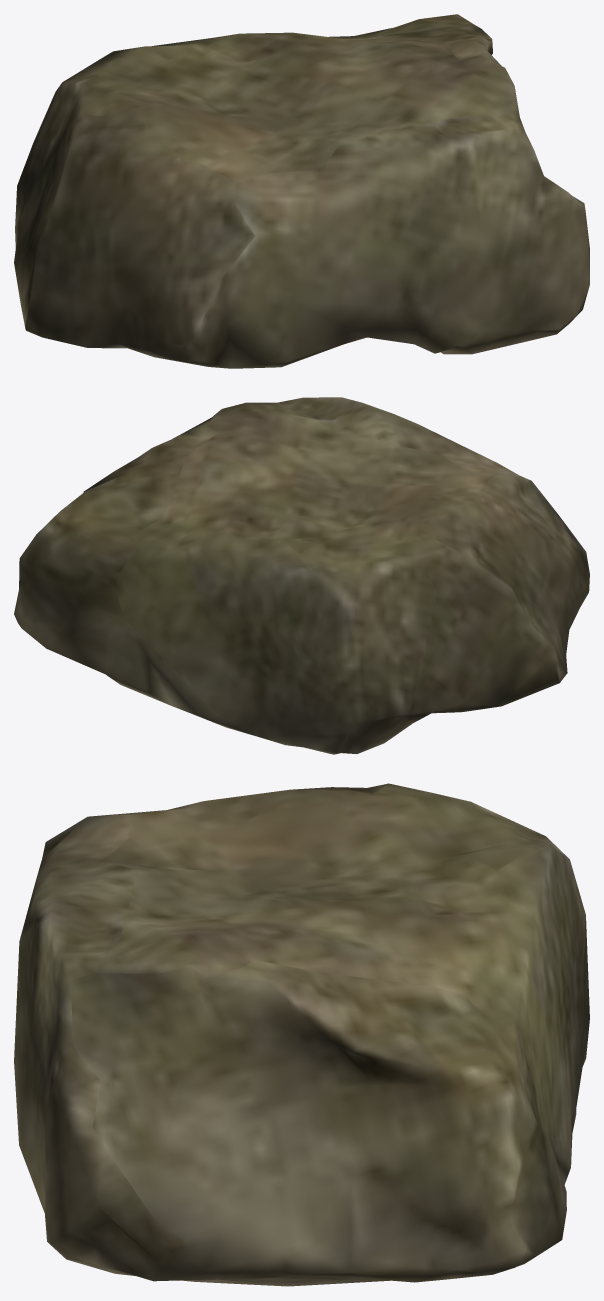
File: rock_moss_set_02_rock07.glb
The picture shows the model from 3 angles, top to bottom: view 1: azimuth 30°, elevation 25°; view 2: azimuth 150°, elevation 25°; view 3: azimuth 270°, elevation 25°; orthographic projection. The views are drawn at different scales.
Parts seen in each view (by area): view 1: rock_moss_set_02_rock07; view 2: rock_moss_set_02_rock07; view 3: rock_moss_set_02_rock07.
Boxes of the visible parts, <box> form: rock_moss_set_02_rock07: <box>14,14,589,368</box>; rock_moss_set_02_rock07: <box>14,397,589,754</box>; rock_moss_set_02_rock07: <box>14,783,589,1286</box>.
Bounding box in the file's own units: 1.69 × 0.741 × 1.2.
Materials: 1 (1 with a texture image).
